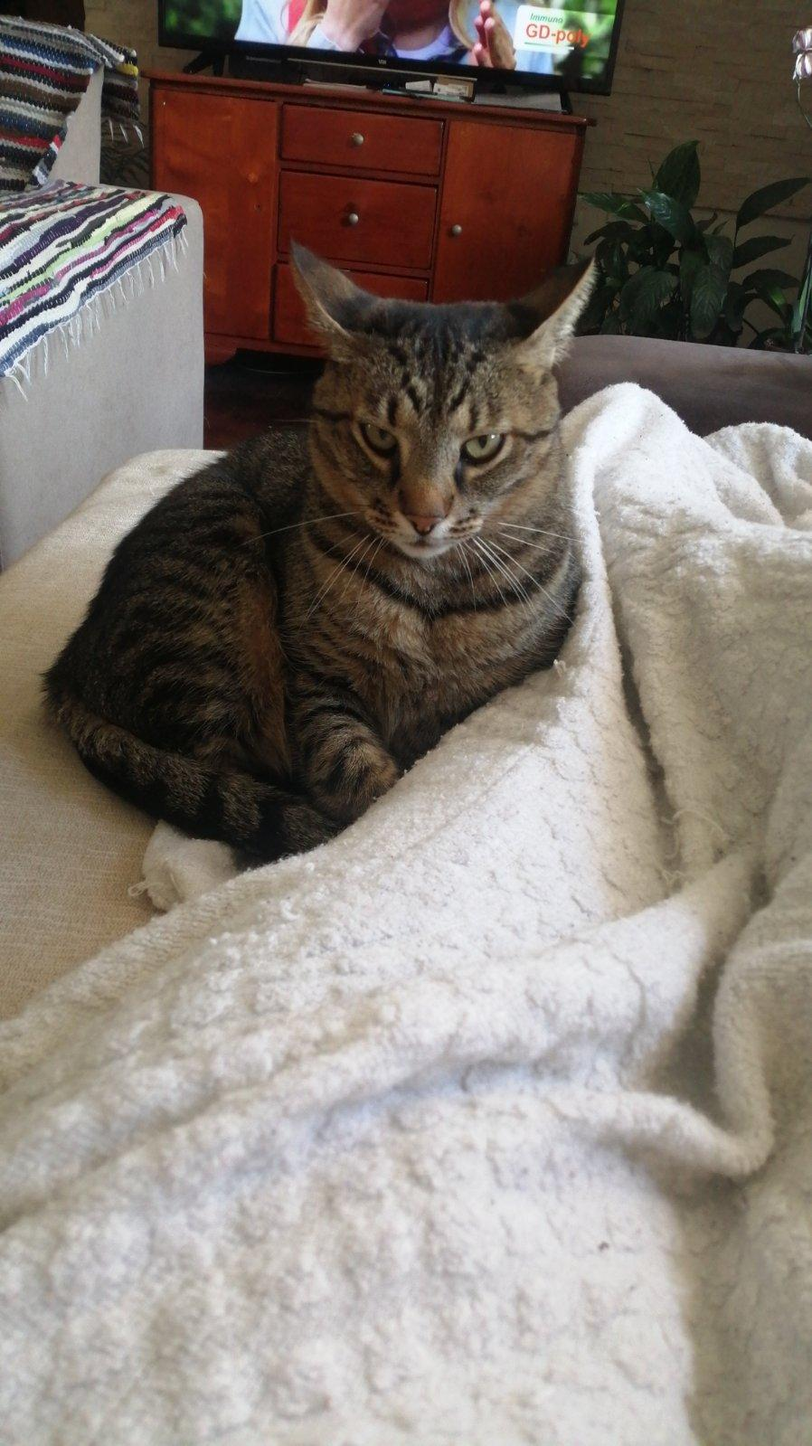macka: (46, 240, 601, 860)
